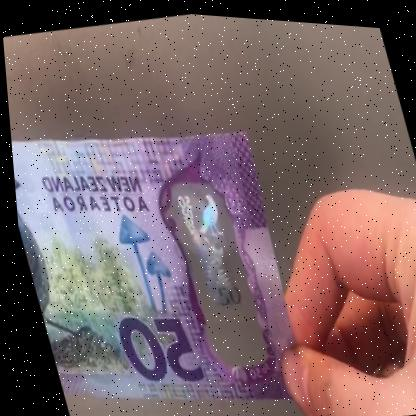50B: (168, 180, 252, 354)
